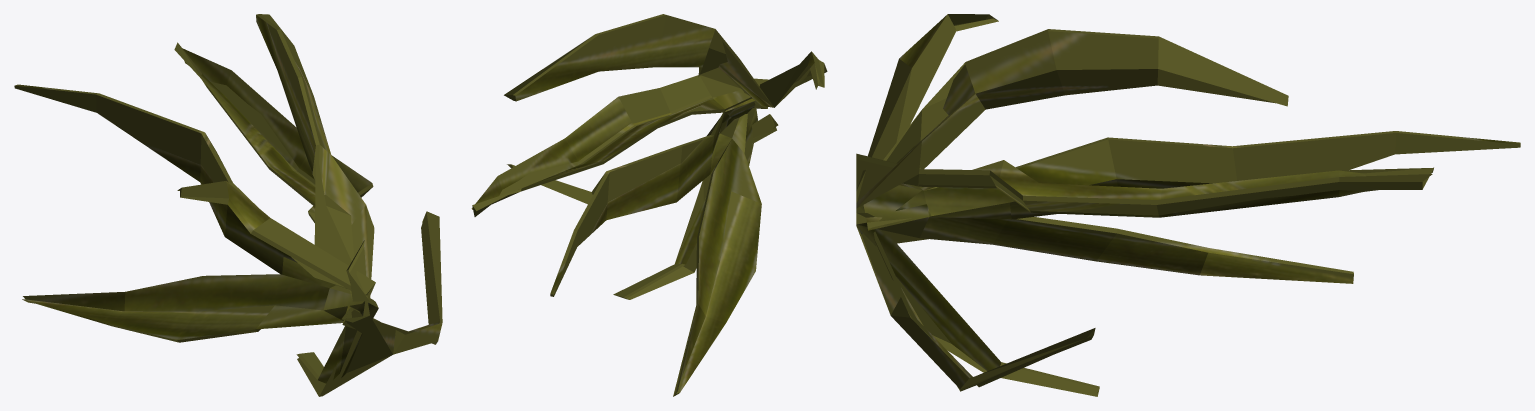
The model's file is grama_alta.fbx.
The picture shows the model from 3 angles, left to right: view 1: azimuth 30°, elevation 25°; view 2: azimuth 150°, elevation 25°; view 3: azimuth 270°, elevation 25°; orthographic projection. The views are drawn at different scales.
Parts seen in each view (by area): view 1: Plano.001; view 2: Plano.001; view 3: Plano.001.
Part boxes in pixels (bbox=[...]): Plano.001: bbox=[14, 14, 442, 396]; Plano.001: bbox=[471, 14, 827, 396]; Plano.001: bbox=[856, 14, 1520, 396].
Size of the model in its own units: 0.3695 by 0.226 by 0.2189.
1 material, 1 textured.
